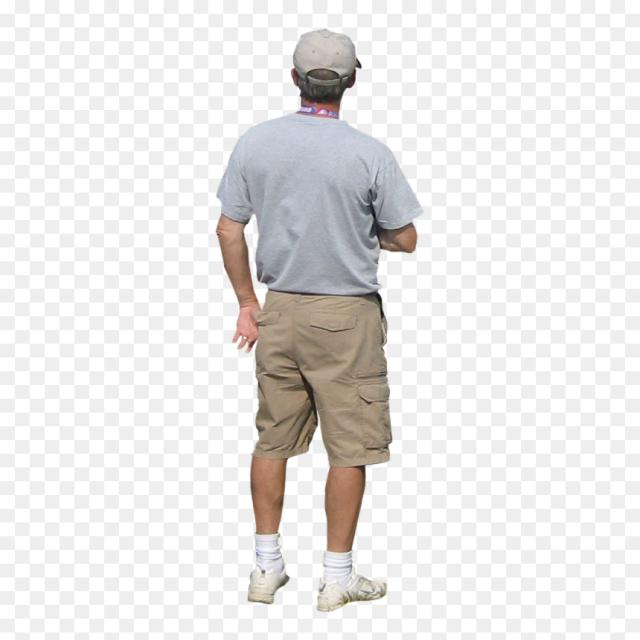adult: (213, 28, 422, 608)
